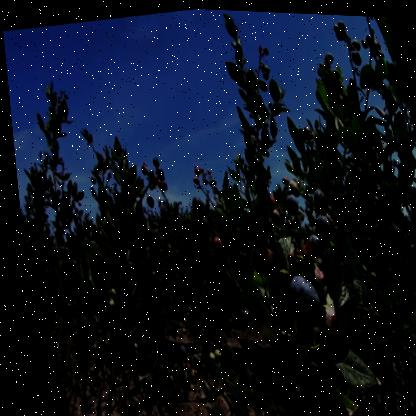intermediate: (204, 233, 220, 252)
mature: (285, 275, 319, 322), (185, 192, 210, 232), (301, 228, 322, 255), (278, 192, 299, 216), (308, 186, 327, 212)
young: (313, 302, 339, 346), (249, 236, 273, 265), (200, 344, 219, 364), (409, 249, 416, 292), (284, 176, 299, 196)
